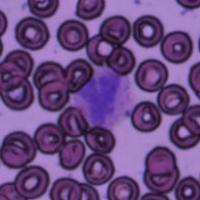N: (71, 66, 132, 130)
